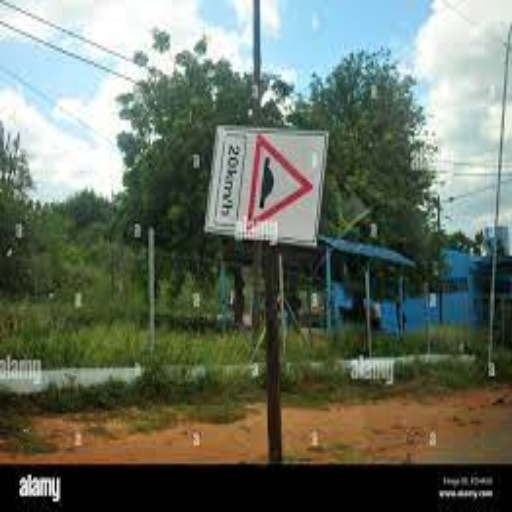Speed Breaker ahead: (210, 94, 343, 265)
